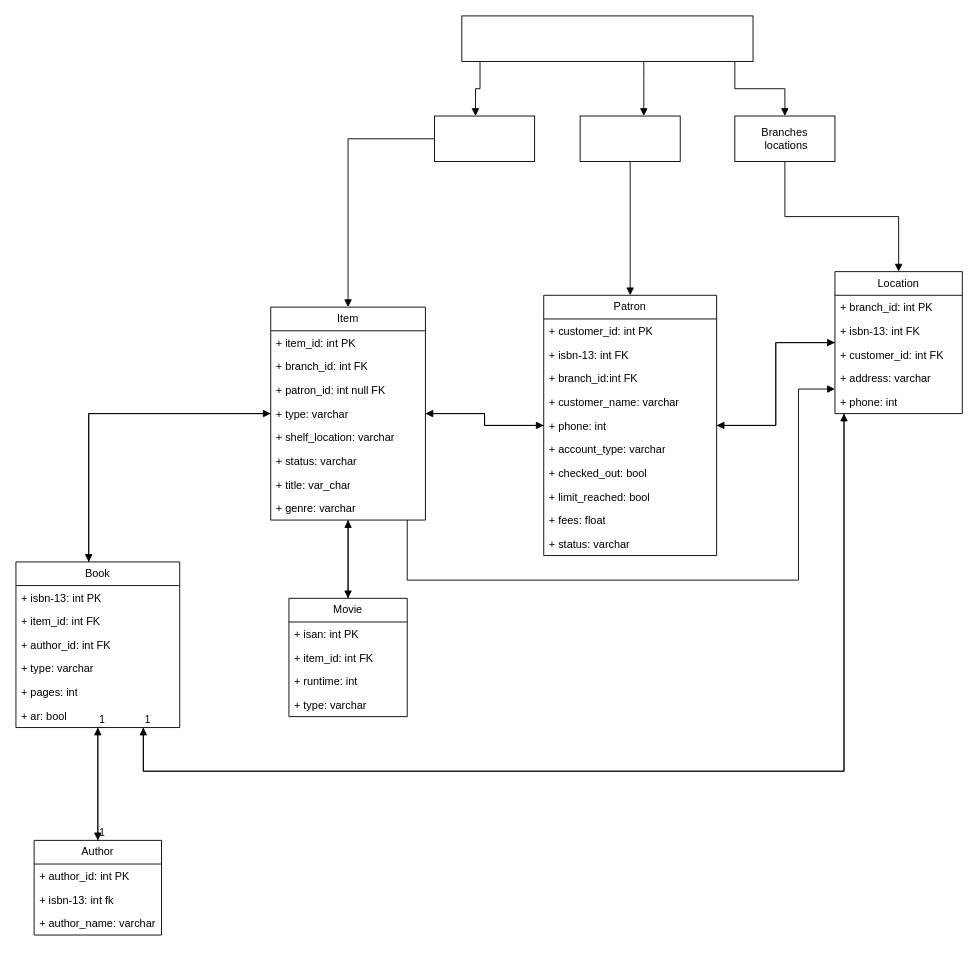
Some shapes in this 978 by 954 pixel diagram are drawn without their labels. Each missing label, with the centre of its shape:
Inventory: (484,138)
Library Management System: (607,38)
Patrons: (629,138)
